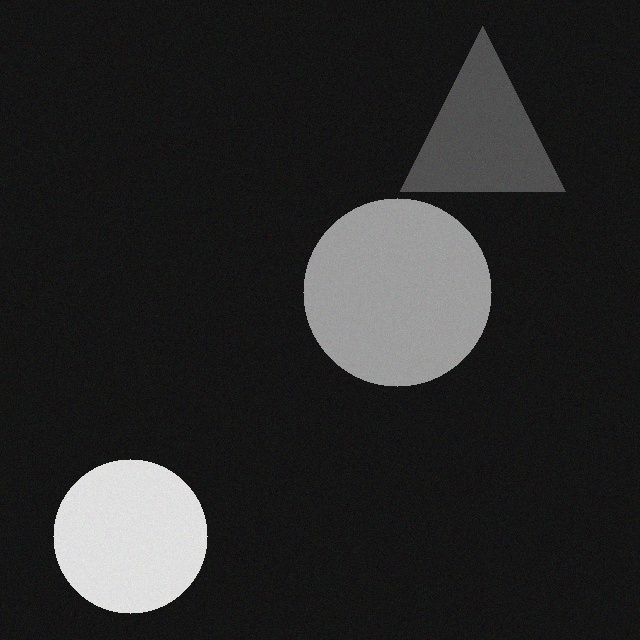circle: (317, 195, 505, 383), (67, 456, 221, 610)
triangle: (414, 23, 579, 188)
